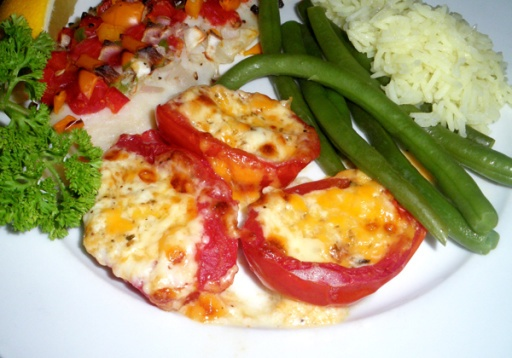background: (0, 0, 410, 183)
